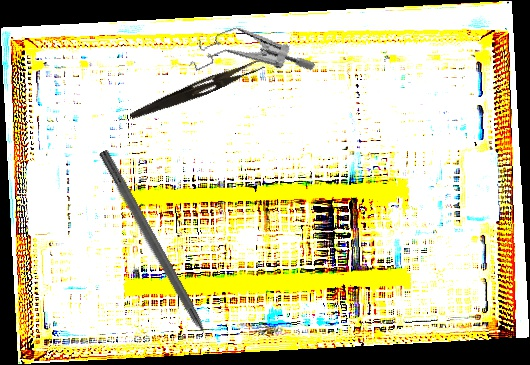Dressing Forceps: (128, 53, 266, 127)
Hook Surgical: (95, 148, 222, 360)
Speculum: (180, 4, 317, 110)
